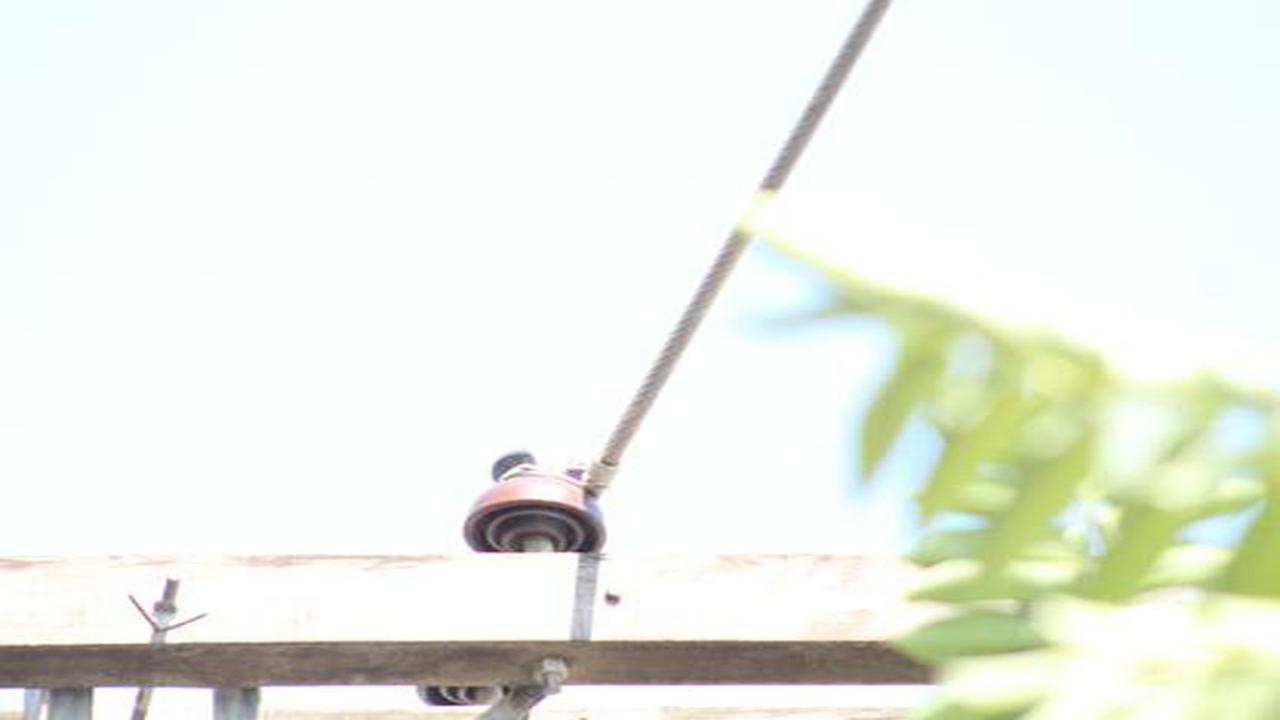insulator_pin: (458, 446, 613, 556)
